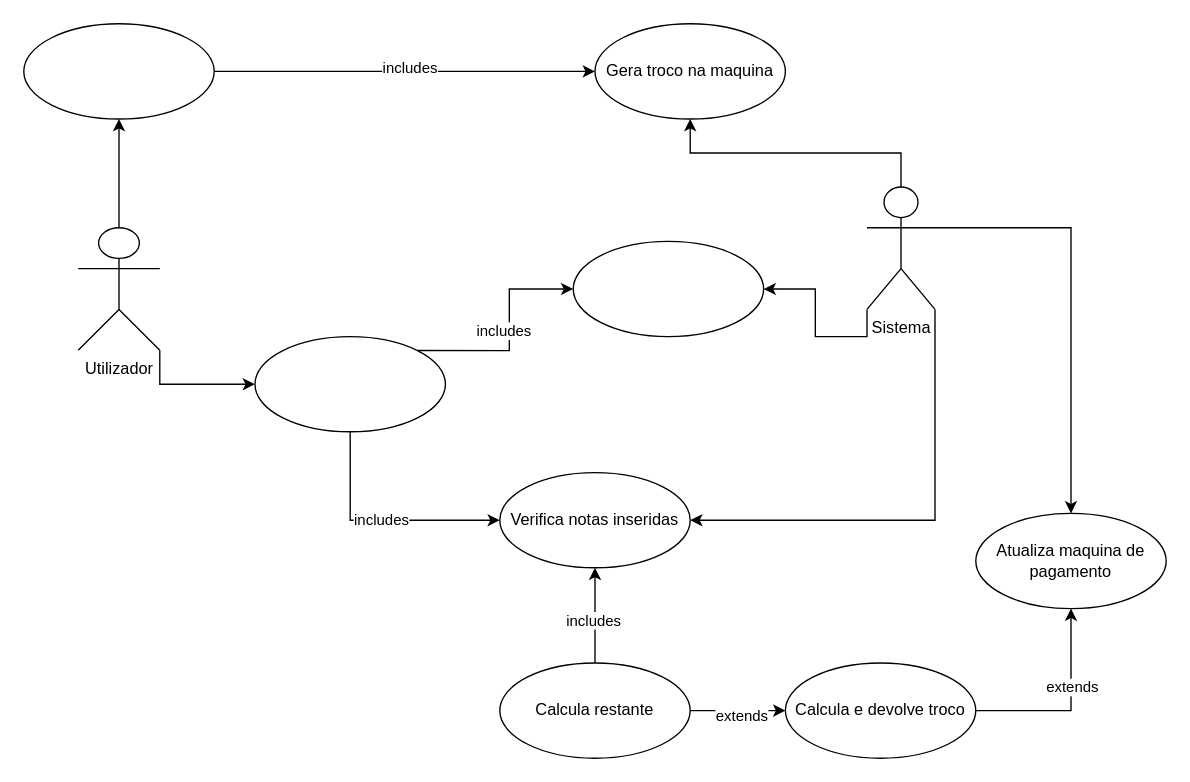
The diagram is 1190 pixels wide and 782 high, and some of its shapes have lost their labels. Each missing label, with the centre of its shape:
"Gera ticket automatico" goes at [668,288].
"Paga ticket de estacionamento" goes at [349,383].
"Verifica troco na maquina" goes at [118,70].
